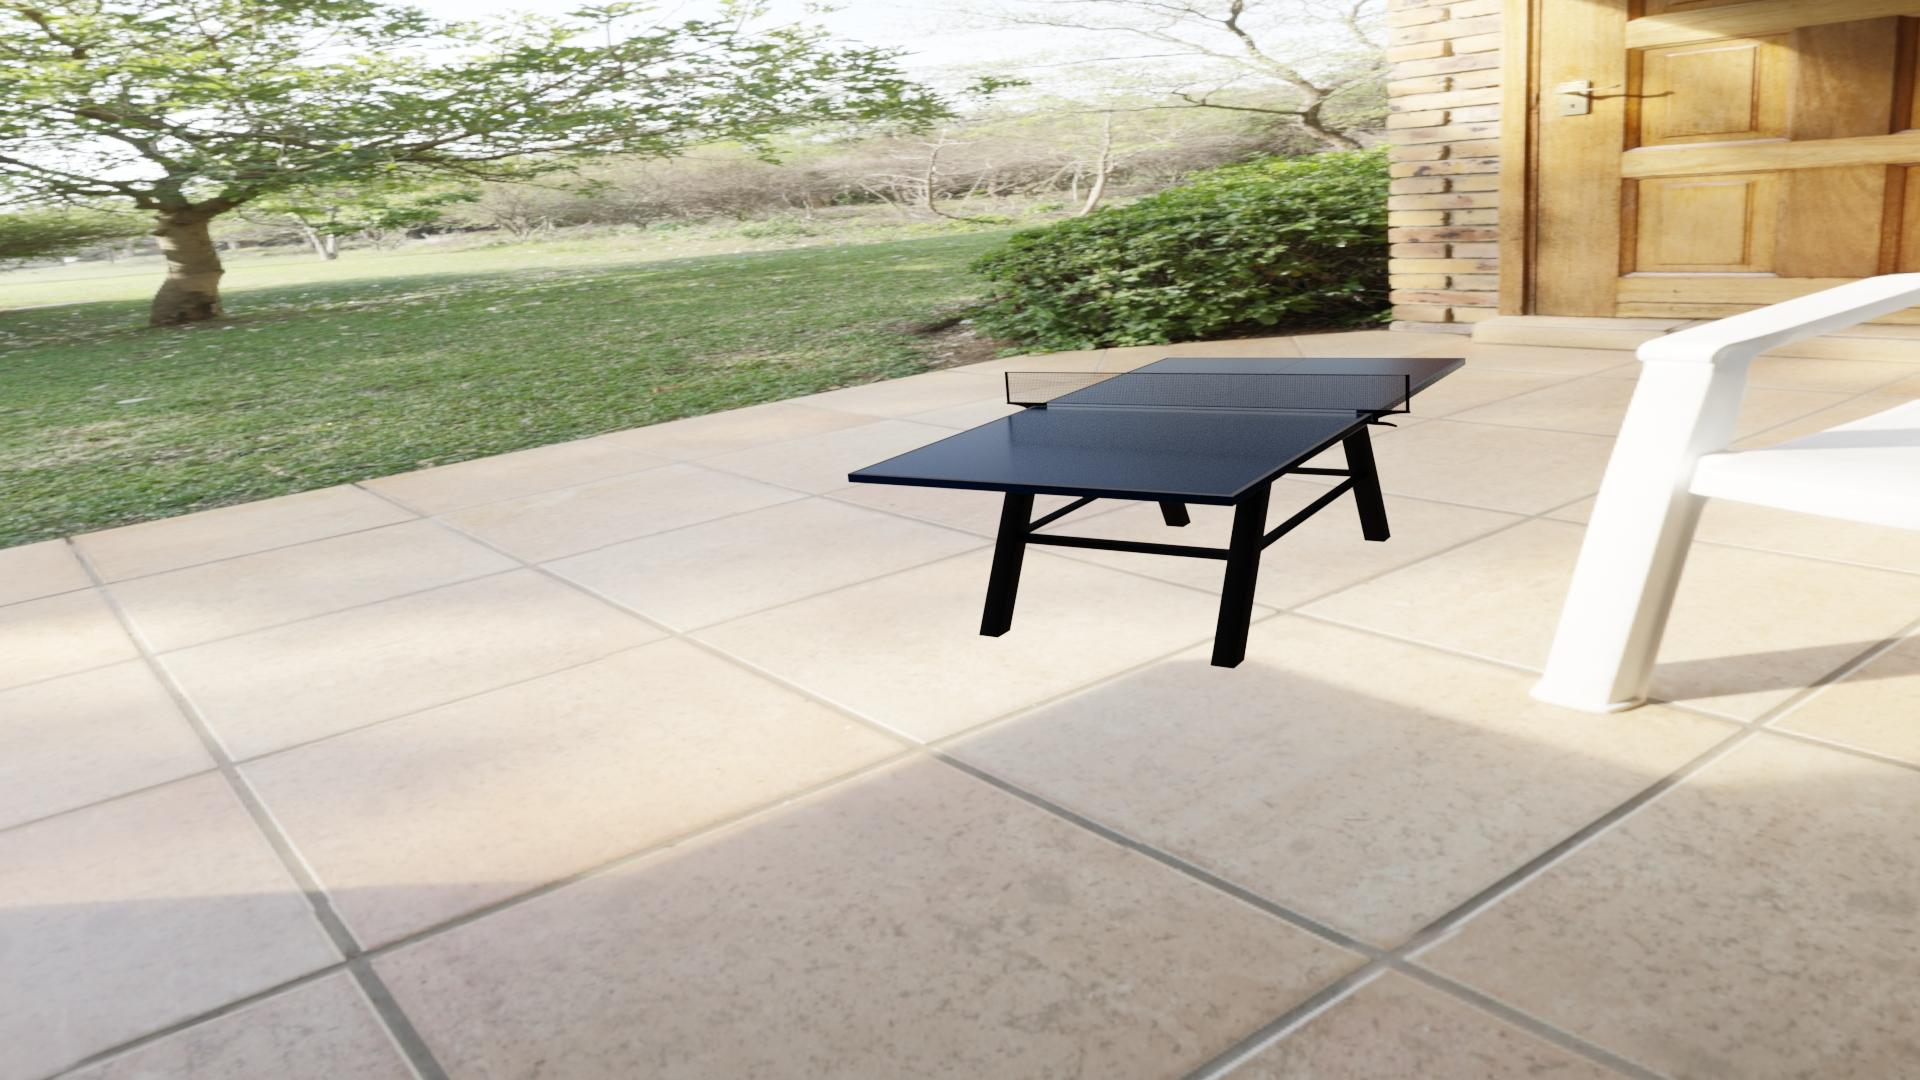table: (855, 359, 1460, 495)
